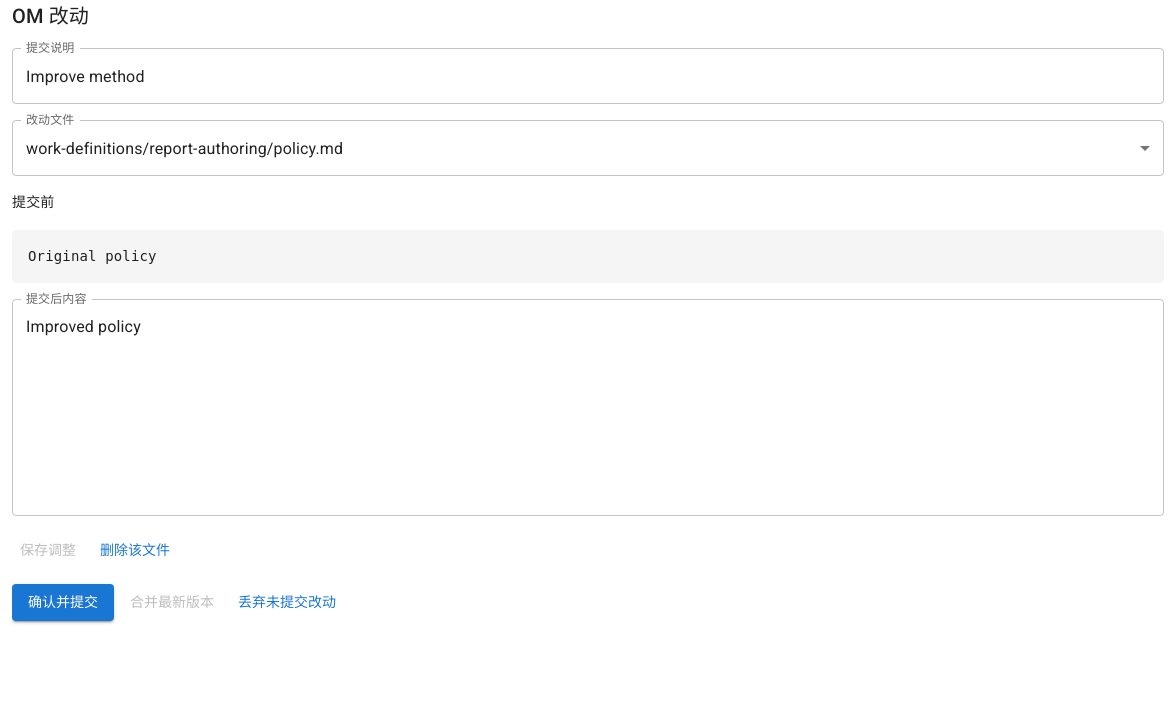
Test case: keeps a failed direct commit readable without introducing an approval entity
Click the button "确认并提交".
click(63, 603)  # box [12,584,114,621]
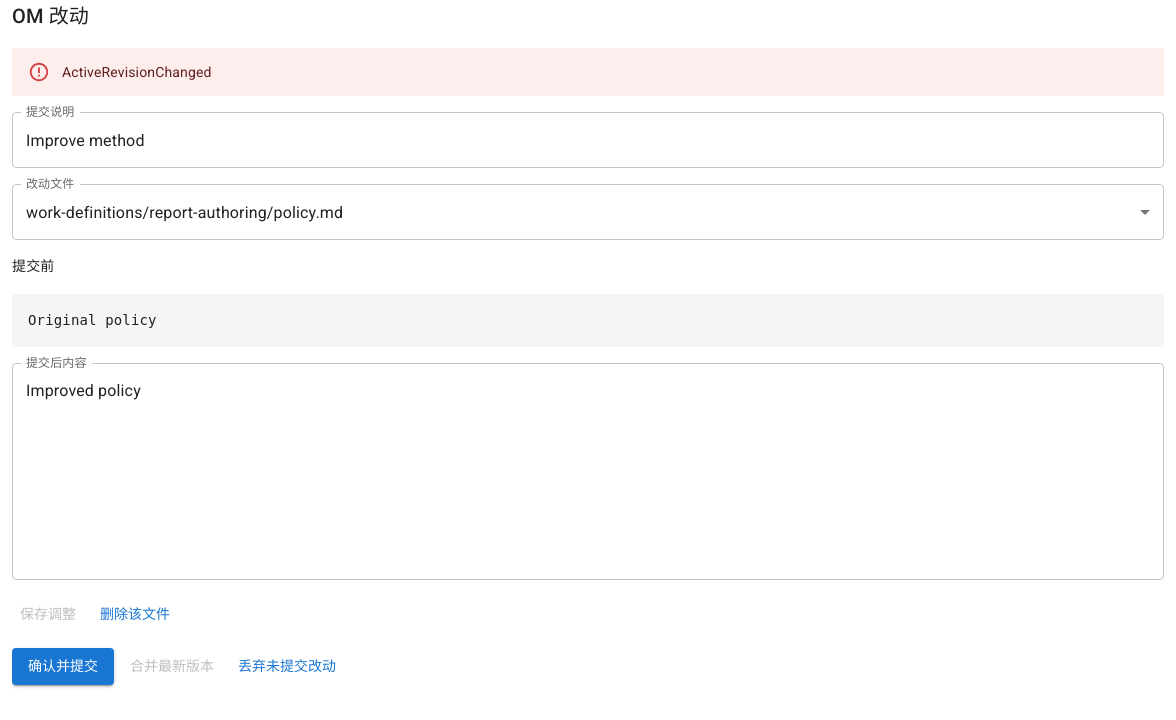
Check: the text box labelled "提交后内容" holds "Improved policy", box [26,380,1150,564]
Check: the message reads "ActiveRevisionChanged", box [62,64,212,80]
